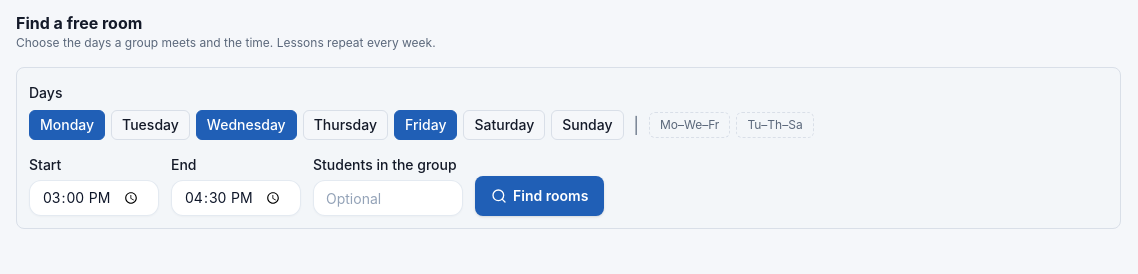
Test case: finding a free room › will not search without a day or with the end before the start
Click the button "Monday" at (67, 125), box [29,110,105,140]
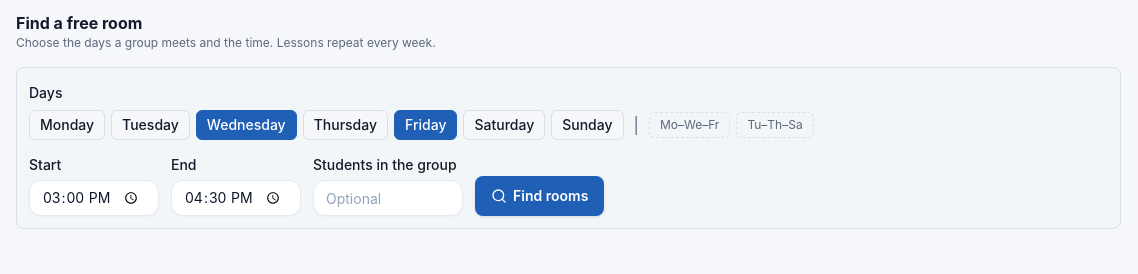
Click the button "Wednesday" at (246, 125), box [196,110,297,140]
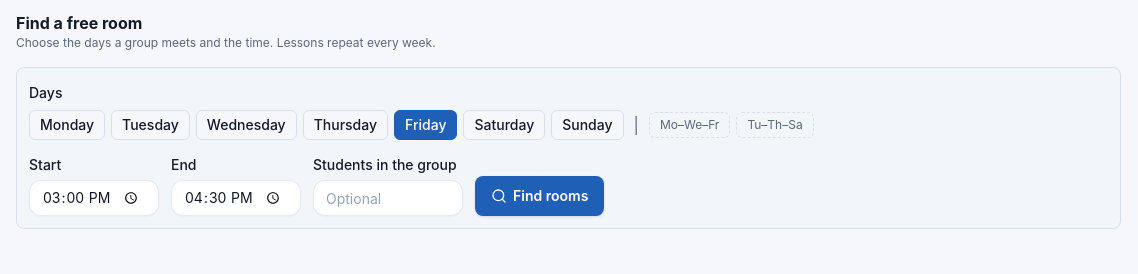
Click the button "Friday" at (426, 125), box [394,110,458,140]
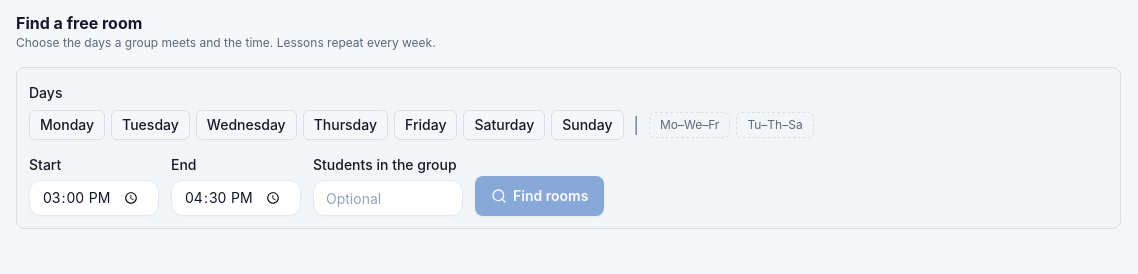
Result: the button "Find rooms" is disabled at [475,176,604,216]
Click the button "Monday" at (67, 125), box [29,110,105,140]
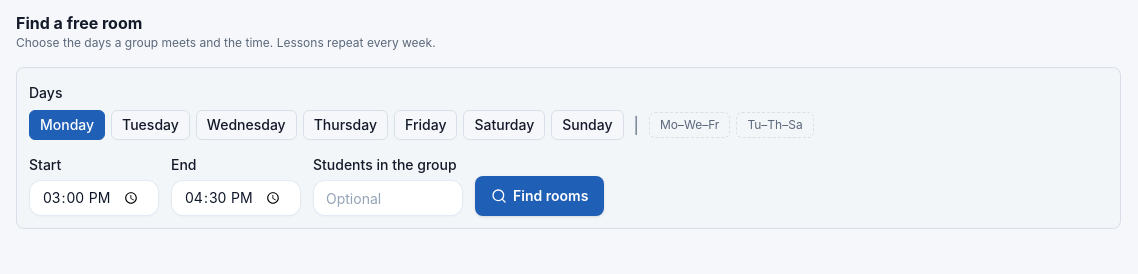
Replace the text in the time field labelled "End" with "14:00" at (236, 198), box [171,180,301,216]
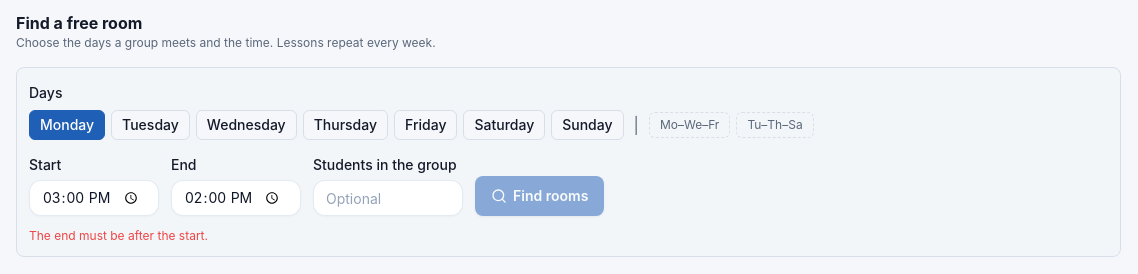
Result: the text "The end must be after the start." is shown at [29,228,208,243]
Result: the button "Find rooms" is disabled at [475,176,604,216]
